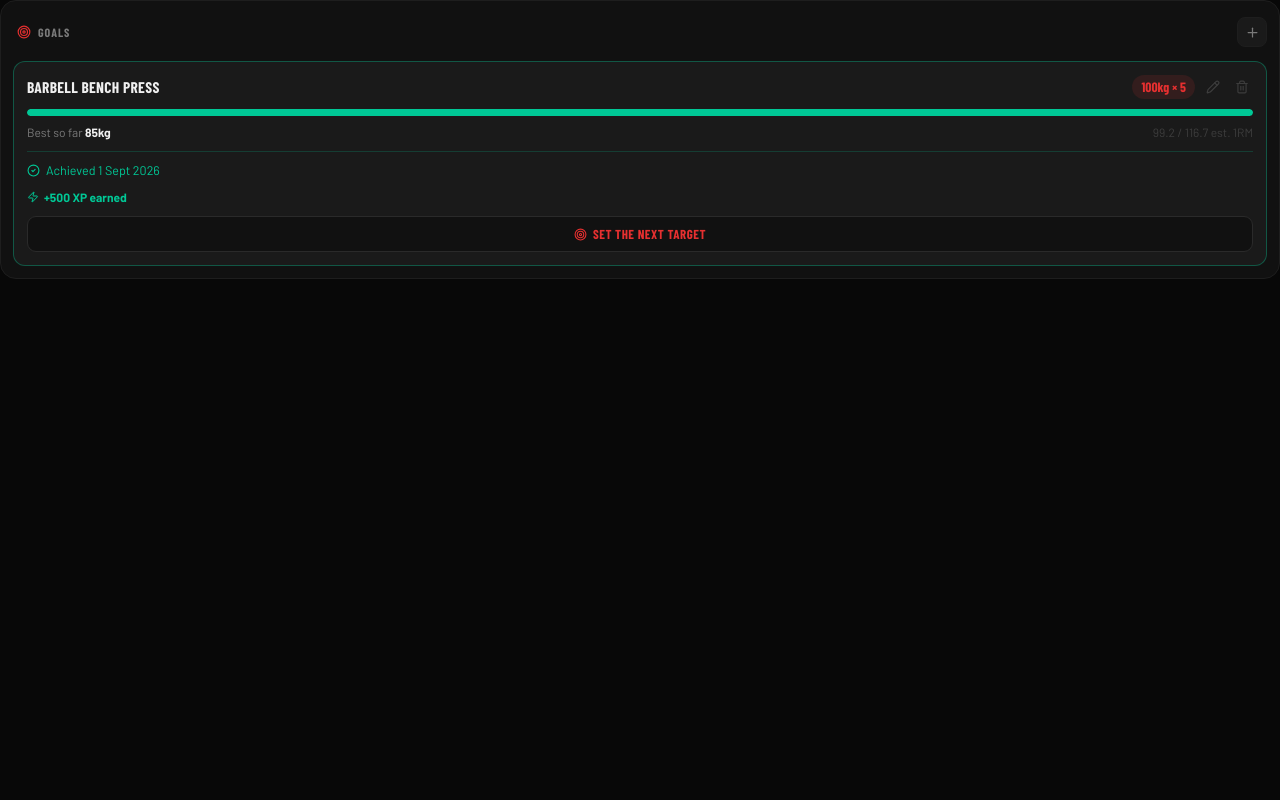
Scenario: GoalsCard › offers the next target straight after hitting one
Check: the element with class "goal-xp" reads "+500 XP earned", box top-left (27, 190), bottom-right (127, 204)
Click the button "Set the next target": (640, 234) top-left (27, 216), bottom-right (1253, 252)
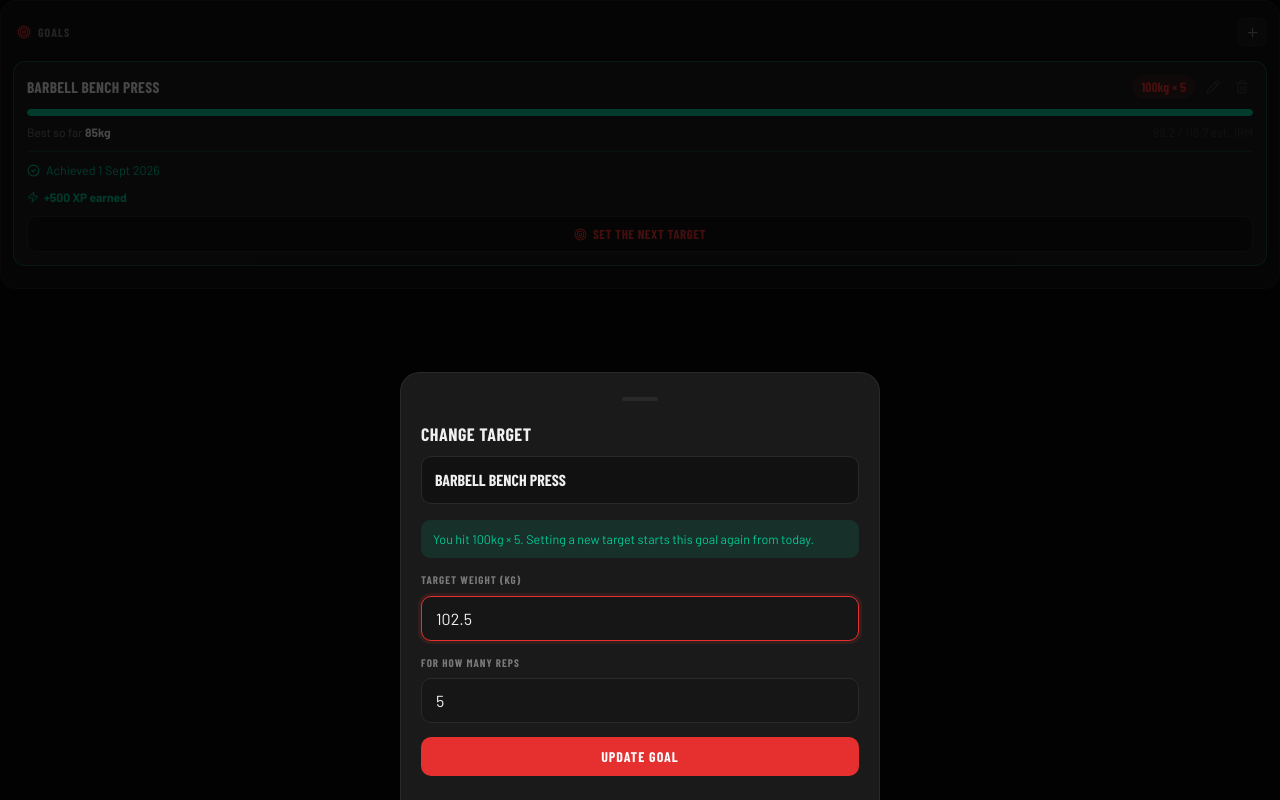
Check: the text "Change Target" is shown, box top-left (421, 423), bottom-right (532, 445)
Check: the text "starts this goal again from today" is shown, box top-left (520, 531), bottom-right (814, 547)
Check: the number field labelled "Target weight (kg)" holds "102.5", box top-left (421, 596), bottom-right (859, 640)
